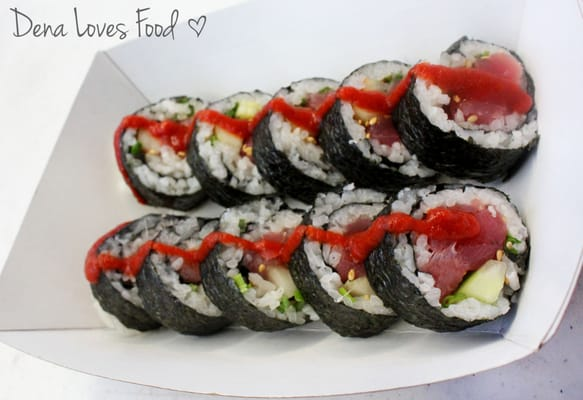curry: (0, 3, 564, 398)
